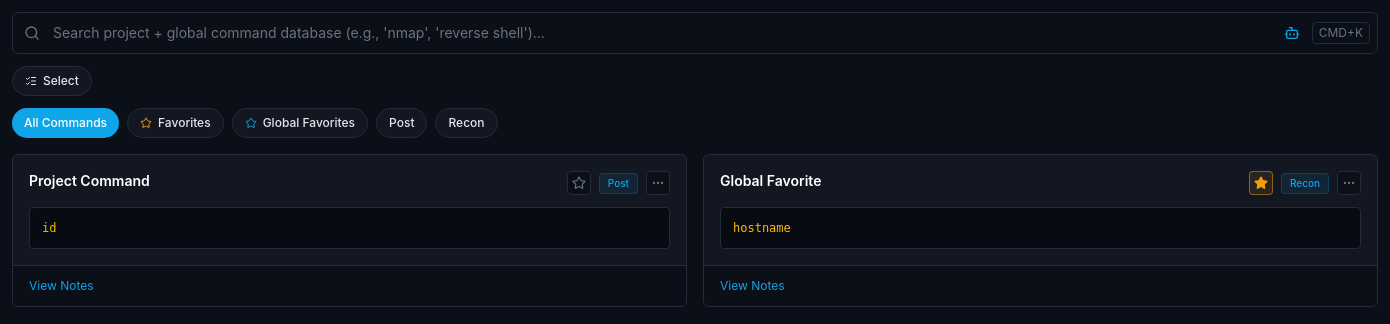
Test case: CommandsLibrary favorites › shows global favorites chip in project scope and filters to global favorites
This screenshot has width=1390, height=324.
Expected: the heading "Project Command" is shown, [29,171,150,191]
Click the button "Global Favorites" at (300, 123), box [232,108,368,138]
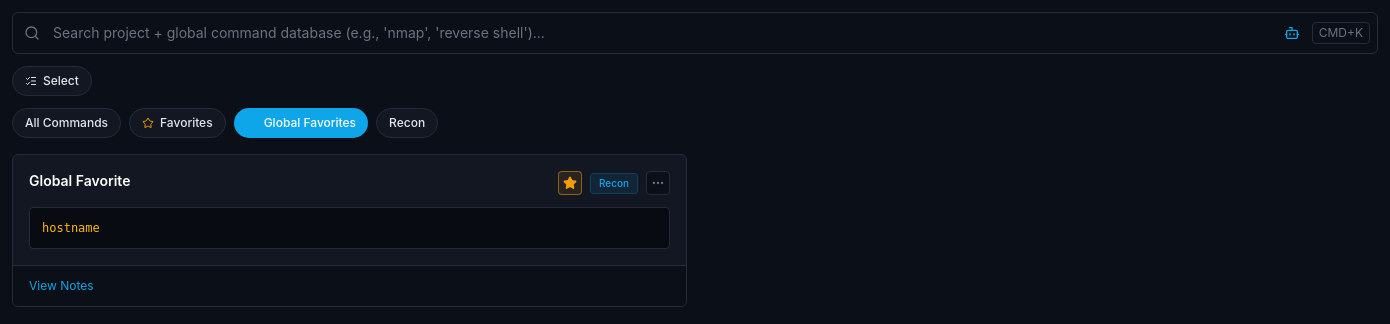
Expected: the heading "Global Favorite" is shown, [29,171,130,191]
Now the heading "Project Command" is gone
